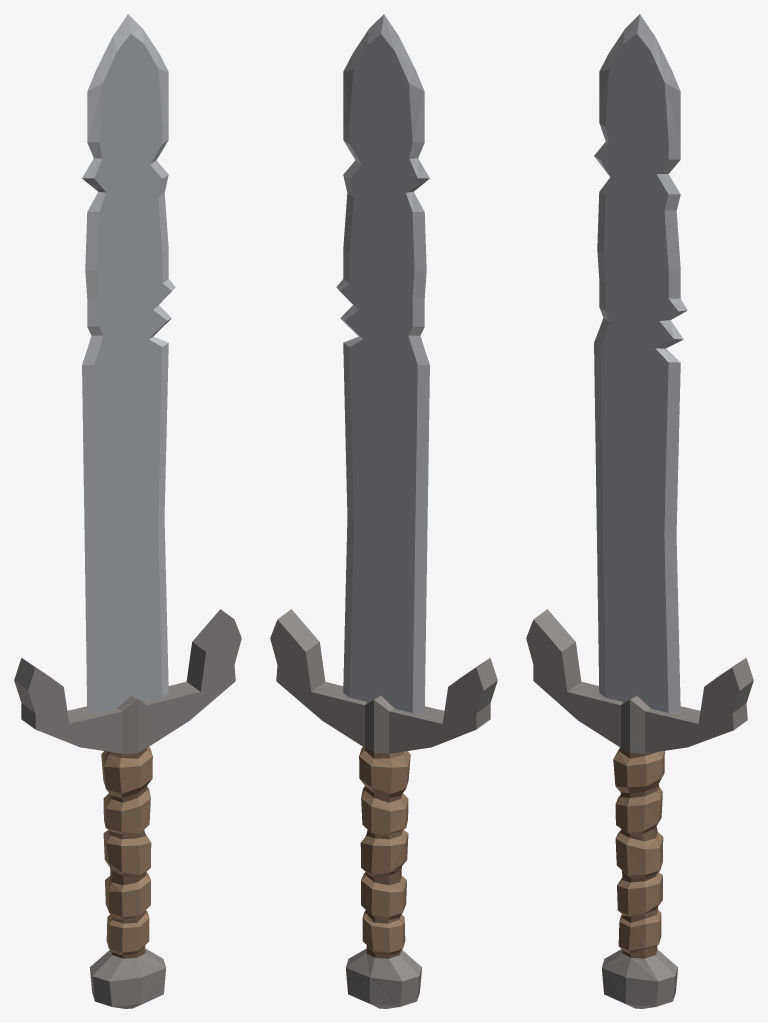
The model's file is espada_recluta.glb.
The picture shows the model from 3 angles, left to right: view 1: azimuth 30°, elevation 25°; view 2: azimuth 150°, elevation 25°; view 3: azimuth 330°, elevation 25°; orthographic projection.
Visible parts, largest first — view 1: espada_recluta; view 2: espada_recluta; view 3: espada_recluta.
Part boxes in pixels (x1,y1,x2,y2): espada_recluta: (14, 14, 241, 1008); espada_recluta: (270, 14, 497, 1008); espada_recluta: (526, 14, 753, 1008).
Size of the model in its own units: 1.14 by 5.06 by 0.2611.
